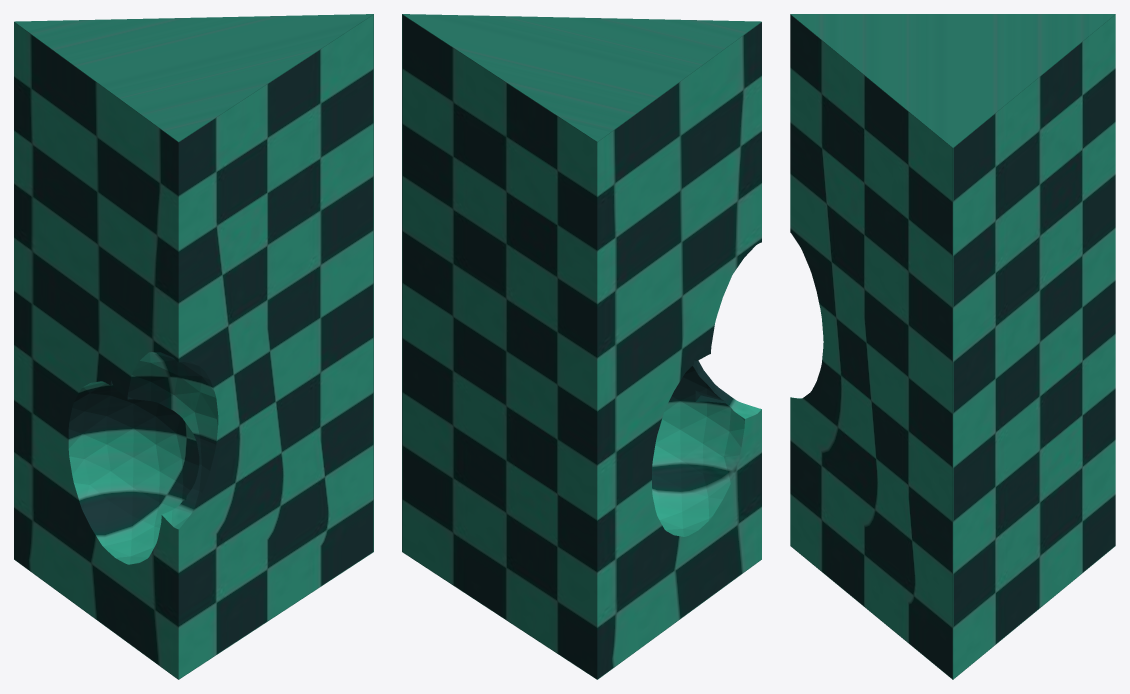
3 renders of one model, left to right at view 1: azimuth 30°, elevation 25°; view 2: azimuth 150°, elevation 25°; view 3: azimuth 270°, elevation 25°, orthographic.
Visible parts, largest first — view 1: geometry_0; view 2: geometry_0; view 3: geometry_0.
Part boxes in pixels (x1,y1,x2,y2): geometry_0: (14,14,373,679); geometry_0: (402,14,761,679); geometry_0: (790,14,1115,679).
Bounding box in the file's own units: 1.2 × 2.22 × 1.23.
Materials: 1 (1 with a texture image).
